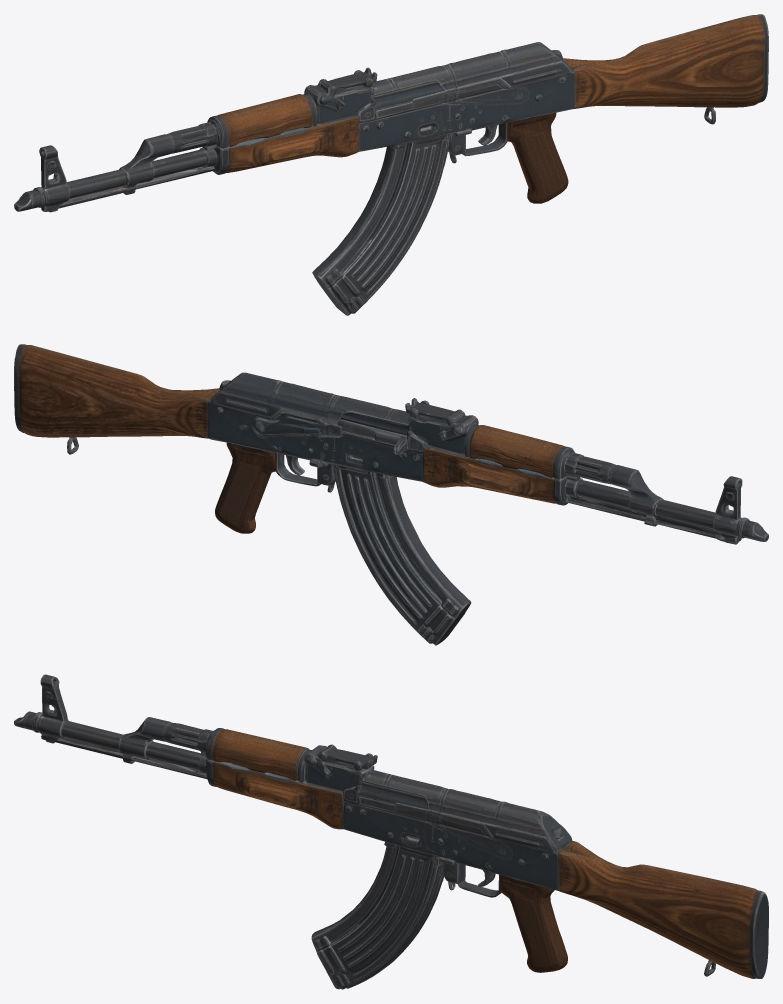
File: akm.glb
3 renders of one model, top to bottom at view 1: azimuth 30°, elevation 25°; view 2: azimuth 150°, elevation 25°; view 3: azimuth 330°, elevation 25°, orthographic.
Visible parts, largest first — view 1: Mesh_0; view 2: Mesh_0; view 3: Mesh_0.
Part boxes in pixels (x1,y1,x2,y2): Mesh_0: (14,14,768,315); Mesh_0: (14,344,768,645); Mesh_0: (14,674,768,989).
Size of the model in its own units: 1.9 by 0.5792 by 0.1346.
1 material, 1 textured.
